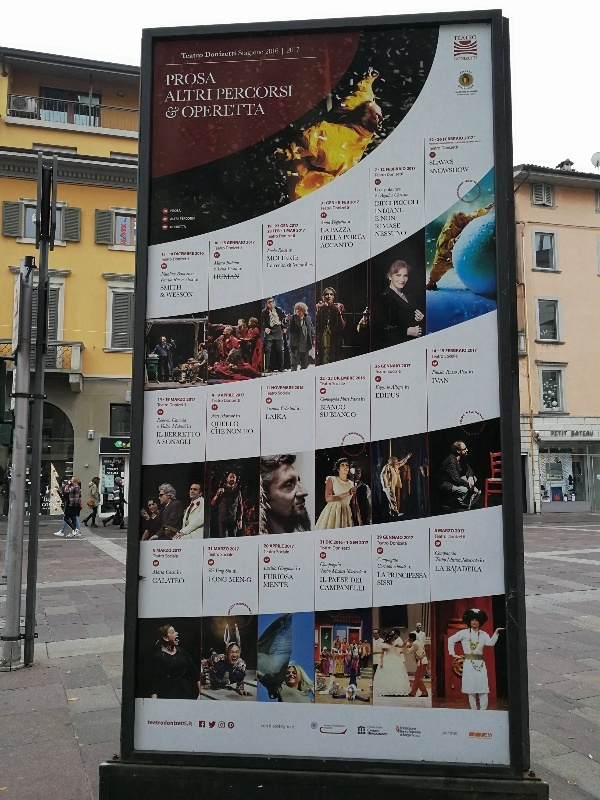text: (353, 425, 369, 442), (193, 103, 208, 119), (209, 103, 224, 119), (225, 103, 240, 119), (241, 103, 256, 119), (225, 85, 240, 101), (241, 85, 256, 101), (257, 85, 272, 101), (273, 85, 288, 101), (241, 599, 256, 615), (465, 427, 480, 442), (465, 407, 480, 421), (177, 89, 192, 102), (193, 89, 208, 102), (177, 74, 192, 87), (193, 74, 208, 87), (241, 49, 256, 60), (182, 103, 192, 119), (121, 223, 128, 245), (245, 616, 256, 629), (230, 602, 240, 616), (273, 253, 288, 262), (465, 176, 480, 185), (166, 74, 176, 87), (257, 103, 265, 119), (216, 85, 224, 101), (385, 557, 399, 566), (33, 258, 48, 266), (209, 51, 224, 59), (360, 443, 368, 457), (385, 223, 401, 230), (449, 566, 464, 573), (465, 566, 480, 573), (321, 585, 336, 592), (337, 585, 352, 592), (321, 397, 336, 404), (385, 187, 400, 194), (433, 167, 448, 174), (449, 167, 464, 174), (433, 159, 448, 166), (346, 425, 352, 442), (322, 562, 336, 569), (177, 292, 193, 298), (225, 51, 237, 59), (344, 448, 352, 460), (353, 448, 361, 460), (344, 434, 352, 446), (337, 242, 353, 248), (433, 378, 449, 384), (209, 74, 216, 87), (161, 578, 176, 584), (177, 432, 192, 438), (161, 285, 176, 291), (209, 577, 224, 583), (225, 274, 240, 280), (273, 582, 288, 588), (273, 574, 288, 580), (321, 577, 336, 583), (321, 405, 336, 411), (321, 235, 336, 241), (401, 573, 416, 579), (385, 393, 400, 399), (385, 231, 400, 237), (385, 208, 400, 214), (401, 200, 416, 206), (477, 177, 480, 207), (481, 177, 484, 207), (577, 431, 592, 437), (177, 439, 191, 445), (225, 422, 239, 428), (273, 414, 287, 420), (353, 585, 365, 592), (337, 227, 351, 233), (289, 253, 298, 262), (235, 599, 240, 615), (435, 566, 448, 572), (163, 439, 176, 445), (323, 242, 336, 248), (353, 235, 366, 241), (387, 573, 400, 579), (241, 577, 252, 584), (337, 220, 348, 227), (401, 734, 416, 739), (369, 732, 384, 737), (273, 726, 288, 731), (161, 721, 176, 726), (465, 558, 480, 563), (177, 570, 192, 575), (161, 293, 176, 298), (209, 568, 224, 573), (289, 263, 304, 268), (289, 247, 304, 252), (321, 569, 336, 574), (337, 413, 352, 418), (321, 228, 336, 233), (436, 551, 448, 557), (468, 84, 480, 90), (212, 429, 224, 435), (212, 422, 224, 428), (465, 199, 474, 207), (162, 278, 176, 283), (182, 53, 192, 60), (193, 53, 203, 60), (230, 577, 240, 584), (274, 263, 288, 268), (386, 167, 400, 172), (481, 407, 486, 421), (165, 432, 176, 438), (257, 49, 263, 60), (385, 216, 396, 222), (171, 89, 176, 102), (227, 569, 240, 574), (227, 429, 240, 434), (337, 546, 350, 551), (289, 85, 293, 101), (225, 399, 241, 403), (385, 364, 401, 368), (279, 566, 288, 573), (461, 179, 464, 200), (401, 730, 416, 734), (401, 727, 416, 731), (148, 721, 160, 726), (177, 721, 189, 726), (449, 558, 464, 562), (436, 557, 448, 562), (49, 503, 64, 507), (166, 292, 176, 298), (161, 258, 176, 262), (177, 257, 189, 262), (177, 252, 192, 256), (289, 47, 299, 53), (465, 56, 477, 61), (209, 547, 224, 551), (244, 429, 256, 434), (214, 274, 224, 280), (273, 230, 288, 234), (273, 386, 288, 390), (337, 578, 349, 583), (337, 376, 352, 380), (321, 207, 336, 211), (417, 573, 427, 579), (385, 536, 400, 540), (449, 535, 464, 539), (433, 371, 448, 375), (449, 349, 464, 353), (449, 137, 464, 141), (465, 136, 480, 140), (162, 425, 176, 429), (178, 272, 192, 276), (162, 272, 176, 276), (216, 568, 224, 575), (290, 224, 304, 228), (322, 214, 336, 218), (402, 364, 416, 368), (376, 223, 384, 230), (434, 535, 448, 539), (434, 362, 448, 366), (293, 725, 304, 730), (49, 497, 60, 502), (293, 263, 304, 268), (273, 544, 284, 549), (353, 569, 364, 574), (321, 546, 332, 551), (405, 385, 416, 390), (167, 569, 176, 575), (353, 578, 362, 584), (337, 405, 346, 411), (378, 557, 384, 566), (375, 201, 384, 207), (195, 278, 208, 282), (195, 252, 208, 256), (227, 261, 240, 265), (227, 241, 240, 245), (323, 221, 336, 225), (387, 173, 400, 177), (435, 529, 448, 533), (177, 424, 187, 429), (177, 418, 187, 423), (326, 540, 336, 545), (342, 397, 352, 402), (449, 145, 459, 150), (449, 551, 457, 557), (180, 217, 192, 221), (212, 399, 224, 403), (264, 582, 272, 588), (264, 574, 272, 580), (356, 376, 368, 380), (344, 235, 352, 241), (337, 206, 349, 210), (385, 563, 393, 569), (404, 536, 416, 540), (376, 393, 384, 399), (388, 370, 400, 374), (376, 231, 384, 237), (376, 216, 384, 222), (376, 208, 384, 214), (385, 193, 393, 199), (481, 421, 485, 433), (468, 349, 480, 353), (433, 349, 445, 353), (545, 401, 551, 409), (455, 56, 464, 61), (215, 261, 224, 266), (267, 253, 272, 262), (279, 234, 288, 239), (337, 569, 346, 574), (321, 555, 336, 558), (321, 202, 336, 205), (369, 729, 380, 733), (261, 725, 272, 729), (117, 460, 128, 464), (161, 549, 172, 553), (213, 414, 224, 418), (213, 406, 224, 410), (213, 394, 224, 398), (229, 267, 240, 271), (337, 541, 348, 545), (469, 370, 480, 374), (433, 355, 444, 359), (369, 727, 383, 730), (153, 578, 160, 584), (177, 578, 184, 584), (193, 432, 200, 438), (162, 265, 176, 268), (162, 253, 176, 256), (266, 48, 272, 55), (273, 48, 279, 55), (210, 561, 224, 564), (289, 566, 295, 573), (322, 390, 336, 393), (394, 385, 400, 392), (377, 385, 384, 391), (385, 201, 392, 207), (161, 419, 171, 423), (230, 548, 240, 552), (214, 547, 224, 551), (225, 414, 235, 418), (214, 247, 224, 251), (305, 263, 313, 268), (278, 392, 288, 396), (321, 382, 331, 386), (342, 201, 352, 205), (326, 201, 336, 205), (385, 581, 393, 586), (552, 431, 560, 436), (35, 216, 48, 219), (163, 226, 176, 229), (209, 89, 212, 102), (227, 247, 240, 250), (461, 412, 464, 425), (449, 732, 458, 736), (436, 543, 448, 546), (177, 403, 186, 407), (177, 398, 186, 402), (161, 398, 170, 402), (164, 218, 176, 221), (465, 71, 474, 75), (234, 624, 240, 630), (225, 553, 234, 557), (247, 241, 256, 245), (279, 248, 288, 252), (266, 414, 272, 420), (295, 386, 304, 390), (321, 377, 333, 380), (385, 385, 391, 391), (401, 208, 407, 214), (394, 200, 400, 206), (375, 188, 384, 192), (407, 167, 416, 171), (439, 529, 448, 533), (449, 370, 458, 374), (297, 406, 304, 411), (289, 406, 296, 411), (265, 566, 272, 571), (329, 578, 336, 583), (337, 562, 342, 569), (361, 396, 368, 401), (353, 397, 360, 402), (465, 167, 470, 174), (449, 159, 454, 166), (325, 727, 336, 730), (209, 553, 220, 556), (277, 551, 288, 554), (488, 734, 496, 738), (296, 567, 304, 571), (264, 551, 272, 555), (360, 541, 368, 545), (321, 413, 329, 417), (337, 382, 345, 386), (408, 565, 416, 569), (376, 370, 384, 374), (376, 365, 384, 369), (401, 193, 409, 197), (433, 147, 441, 151), (202, 723, 208, 728), (42, 497, 48, 502), (134, 224, 144, 227), (166, 555, 176, 558), (465, 91, 480, 93), (225, 394, 235, 397), (214, 268, 224, 271), (214, 242, 224, 245), (289, 234, 295, 239), (282, 406, 288, 411), (289, 574, 294, 580), (337, 235, 342, 241), (331, 227, 336, 233), (378, 581, 384, 586), (378, 573, 384, 578), (401, 564, 407, 569), (379, 563, 384, 569), (401, 231, 406, 237), (442, 145, 448, 150), (433, 138, 443, 141), (561, 431, 567, 436), (571, 431, 576, 437), (177, 278, 184, 282), (233, 569, 240, 573), (289, 229, 296, 233), (273, 407, 280, 411), (377, 194, 384, 198), (380, 187, 384, 194), (466, 142, 480, 144), (540, 330, 544, 337), (177, 226, 186, 229), (455, 91, 464, 94), (391, 542, 400, 545), (375, 174, 384, 177), (375, 169, 384, 172), (455, 530, 464, 533), (449, 355, 458, 358), (439, 142, 448, 145), (14, 323, 16, 336), (467, 94, 480, 96), (467, 91, 480, 93), (451, 142, 464, 144), (267, 263, 272, 268), (273, 248, 278, 253), (273, 566, 278, 571), (331, 413, 336, 418), (401, 167, 406, 172), (337, 725, 345, 728), (12, 400, 16, 406), (42, 503, 48, 507), (13, 336, 16, 344), (154, 570, 160, 574), (154, 555, 160, 559), (170, 403, 176, 407), (161, 404, 169, 407), (177, 285, 181, 291), (205, 51, 208, 59), (458, 71, 464, 75), (241, 624, 245, 630), (218, 267, 224, 271), (266, 392, 272, 396), (289, 545, 295, 549), (264, 545, 272, 548), (376, 181, 384, 184), (325, 725, 336, 727), (53, 508, 64, 510), (238, 49, 240, 60), (469, 141, 480, 143), (409, 731, 416, 734), (105, 460, 112, 463), (297, 229, 304, 232), (281, 225, 288, 228), (273, 225, 280, 228), (337, 397, 340, 404), (333, 220, 336, 227), (377, 542, 384, 545), (377, 536, 384, 539), (401, 385, 404, 392), (377, 378, 384, 381), (545, 330, 548, 337), (443, 732, 448, 736), (155, 562, 160, 566), (177, 549, 182, 553), (187, 398, 192, 402), (171, 398, 176, 402), (187, 278, 192, 282), (470, 94, 480, 96), (460, 85, 464, 90), (225, 547, 230, 551), (268, 248, 272, 253), (267, 235, 272, 239), (273, 235, 278, 239), (273, 392, 278, 396), (289, 386, 294, 390), (364, 569, 368, 574), (348, 569, 352, 574), (396, 564, 400, 569), (395, 193, 400, 197), (449, 529, 454, 533), (438, 143, 448, 145), (113, 472, 119, 475), (113, 468, 119, 471), (125, 217, 128, 223), (154, 549, 160, 552), (157, 432, 160, 438), (225, 577, 228, 583), (215, 255, 224, 257), (266, 387, 272, 390), (266, 559, 272, 562), (353, 201, 359, 204), (378, 550, 384, 553), (401, 542, 407, 545), (161, 570, 165, 574), (188, 424, 192, 428), (241, 241, 245, 245), (268, 407, 272, 411), (348, 220, 352, 224), (462, 199, 464, 207), (456, 142, 464, 144), (444, 137, 448, 141), (385, 732, 388, 737), (189, 722, 192, 727), (107, 472, 112, 475), (107, 468, 112, 471), (173, 424, 176, 429), (173, 418, 176, 423), (173, 257, 176, 262), (171, 226, 176, 229), (171, 218, 176, 221), (171, 209, 176, 212), (333, 569, 336, 574), (333, 546, 336, 551), (353, 413, 356, 418), (463, 427, 464, 442), (481, 427, 482, 442), (461, 370, 464, 375), (465, 370, 468, 375), (459, 141, 464, 144), (446, 566, 448, 573), (430, 167, 432, 174), (430, 159, 432, 166), (17, 323, 18, 336), (465, 412, 466, 425), (417, 731, 421, 734), (481, 559, 484, 563), (161, 555, 164, 559), (173, 549, 176, 553), (157, 549, 160, 553), (161, 432, 163, 438), (193, 398, 196, 402), (177, 209, 181, 212), (458, 94, 464, 96), (221, 553, 224, 557), (237, 414, 240, 418), (236, 394, 240, 397), (241, 394, 245, 397), (268, 230, 272, 233), (268, 225, 272, 228), (268, 400, 272, 403), (273, 551, 276, 555), (285, 545, 288, 549), (321, 541, 324, 545), (333, 382, 336, 386), (333, 206, 336, 210), (337, 201, 340, 205), (385, 542, 389, 545), (381, 364, 384, 368), (417, 200, 419, 206), (429, 147, 432, 151), (474, 141, 480, 143), (289, 726, 291, 731), (270, 724, 272, 729), (43, 508, 48, 510), (475, 141, 480, 143), (49, 508, 52, 511), (157, 426, 160, 429), (269, 242, 272, 245), (445, 355, 448, 358), (417, 736, 421, 738), (332, 725, 336, 727), (158, 419, 160, 423), (158, 398, 160, 402), (174, 252, 176, 256), (193, 217, 195, 221), (222, 414, 224, 418), (241, 267, 243, 271), (225, 267, 227, 271), (289, 392, 291, 396), (334, 541, 336, 545), (334, 376, 336, 380), (353, 376, 355, 380), (401, 536, 403, 540), (385, 370, 387, 374), (401, 173, 403, 177), (446, 349, 448, 353), (465, 349, 467, 353), (433, 143, 437, 145), (481, 566, 482, 573), (401, 187, 402, 194), (110, 464, 112, 467), (113, 460, 115, 463), (158, 404, 160, 407), (177, 218, 179, 221), (287, 47, 288, 53), (465, 88, 468, 90), (225, 429, 226, 435), (222, 394, 224, 397), (351, 578, 352, 584), (383, 193, 384, 199), (433, 154, 435, 157), (446, 142, 448, 145), (449, 142, 451, 145), (430, 138, 432, 141), (593, 431, 594, 437), (463, 558, 464, 563), (159, 440, 160, 445), (241, 429, 242, 434), (225, 261, 226, 266), (271, 544, 272, 549), (351, 397, 352, 402), (385, 573, 386, 578), (193, 278, 194, 282), (175, 278, 176, 282), (193, 252, 194, 256), (239, 267, 240, 271), (287, 229, 288, 233), (383, 536, 384, 540), (465, 535, 466, 539), (447, 370, 448, 374), (431, 355, 432, 359), (335, 725, 336, 728), (113, 464, 114, 467), (177, 555, 178, 558), (193, 273, 194, 276), (241, 247, 242, 250), (225, 242, 226, 245), (305, 229, 306, 232), (351, 201, 352, 204), (385, 174, 386, 177), (431, 154, 432, 157), (465, 141, 466, 144), (159, 412, 160, 414), (161, 412, 162, 414), (465, 94, 466, 96), (431, 143, 432, 145)
